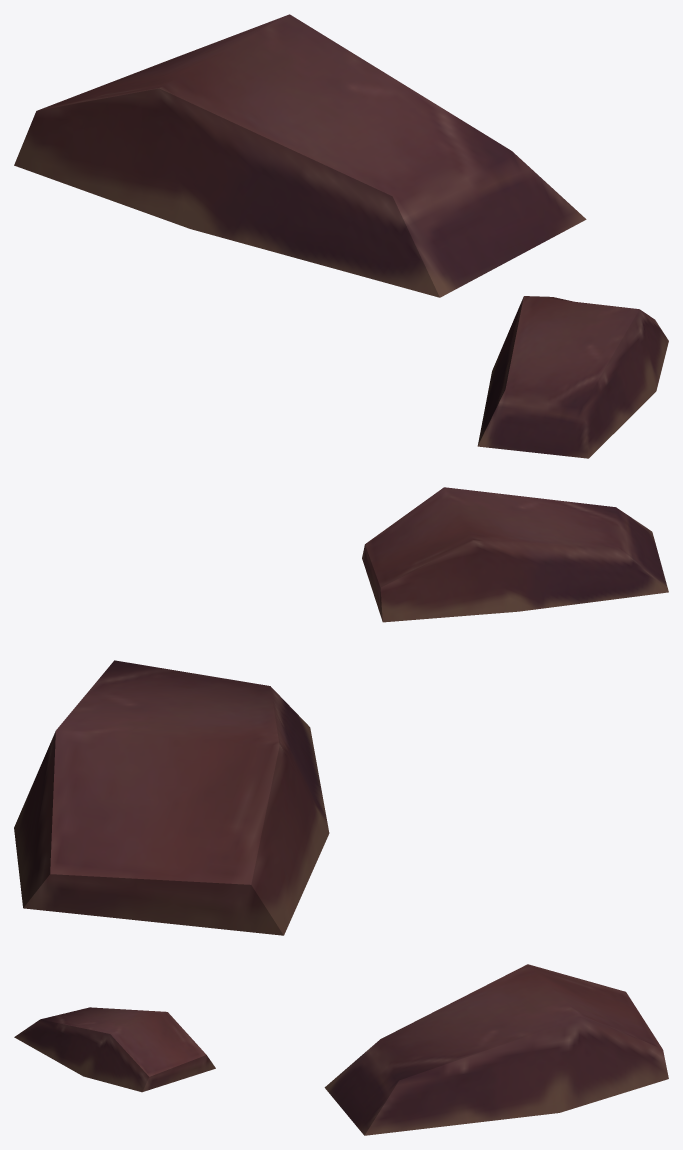
The model's file is xbw_shiqiang_07_1.FBX.
The picture shows the model from 3 angles, top to bottom: view 1: azimuth 30°, elevation 25°; view 2: azimuth 150°, elevation 25°; view 3: azimuth 270°, elevation 25°; orthographic projection. The views are drawn at different scales.
Visible parts, largest first — view 1: xbw_shiqiang_07_1; view 2: xbw_shiqiang_07_1; view 3: xbw_shiqiang_07_1.
Part boxes in pixels (left/top/right/bottom): xbw_shiqiang_07_1: left=14, top=14, right=668, bottom=458; xbw_shiqiang_07_1: left=14, top=487, right=668, bottom=935; xbw_shiqiang_07_1: left=14, top=964, right=668, bottom=1135.
Size of the model in its own units: 1.73 by 0.5667 by 3.97.
